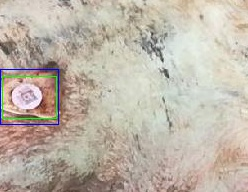text: (2, 76, 56, 118)
